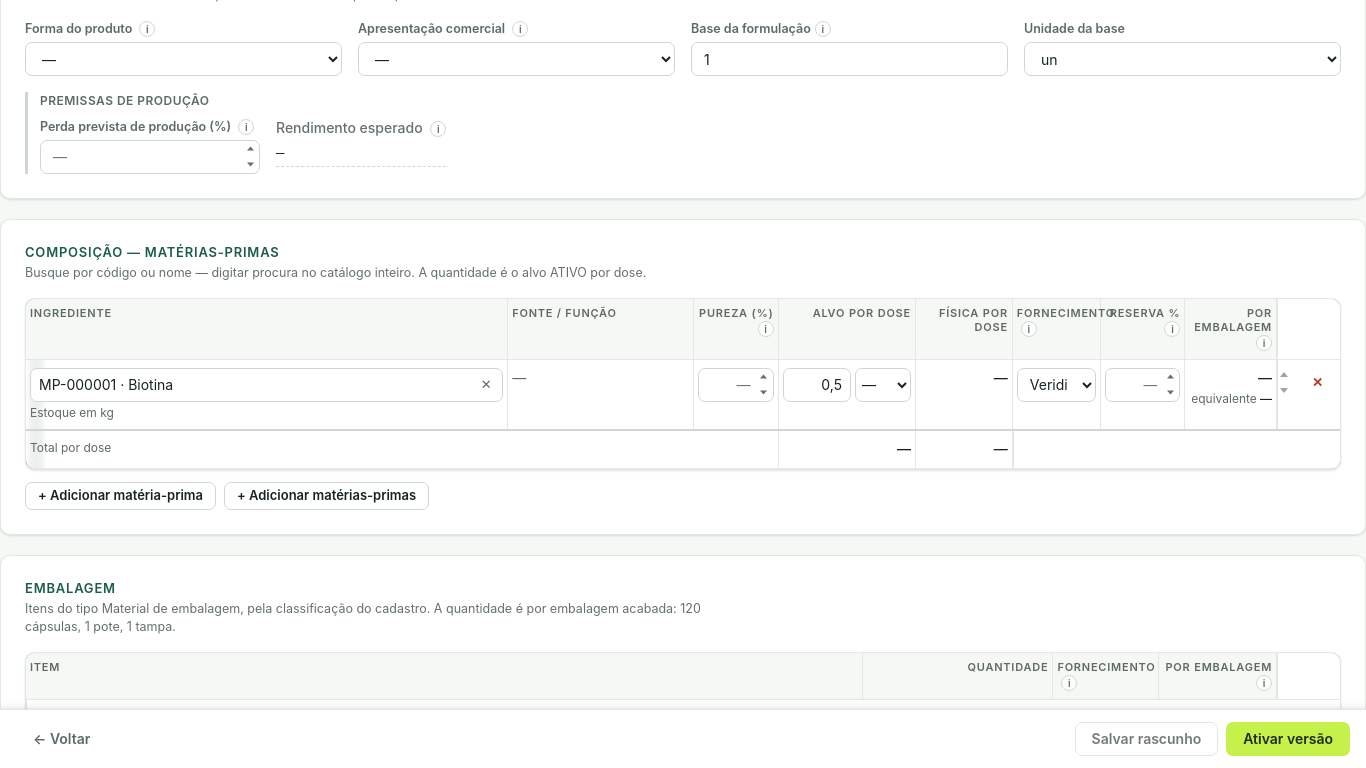
Test case: Modelo de Formulação — guarda de alterações não salvas › editar a pureza na coluna é pendência, e desfazer limpa
(page scrolled)
Type "70" into the field named "Pureza de MP-000001". click: (736, 385)
box: [698,368,774,402]
(page scrolled)
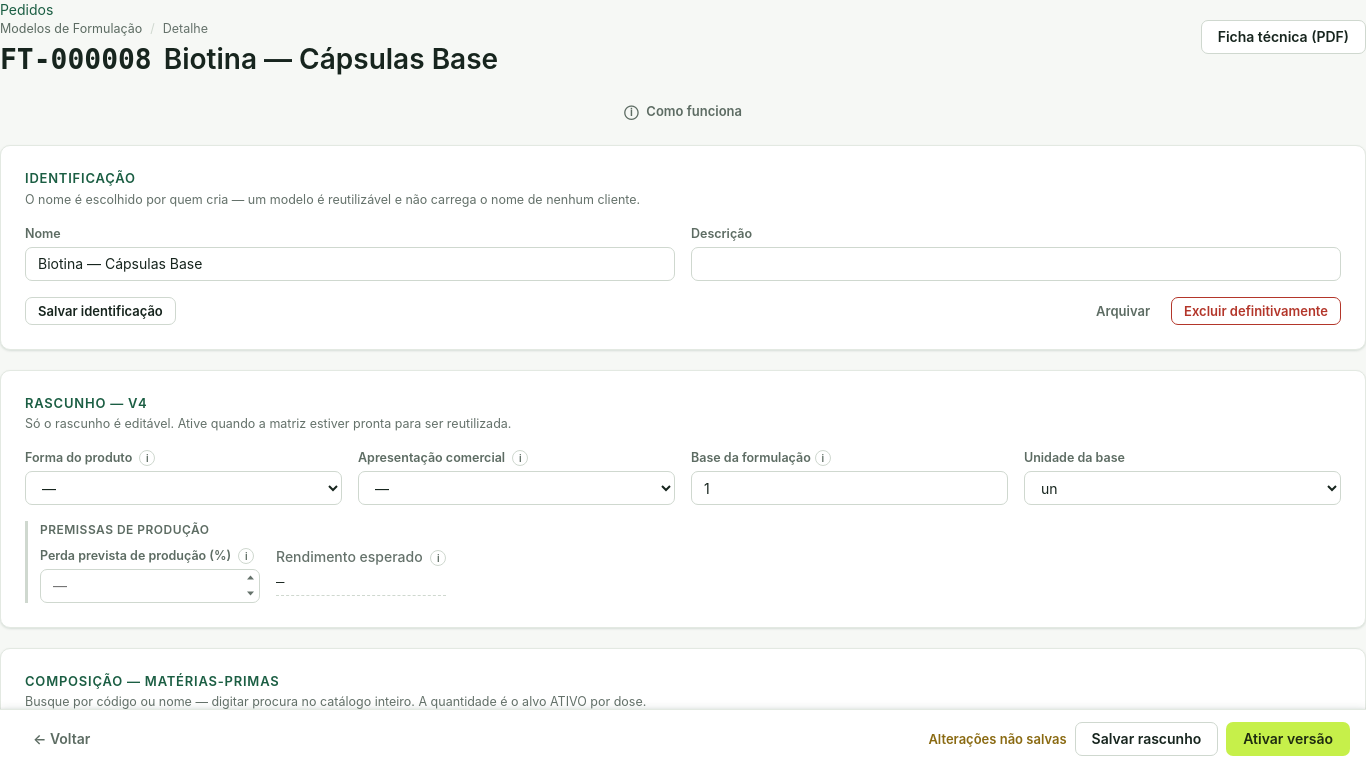
Click the link "Pedidos". click: click(27, 10)
box: [0,1,53,18]
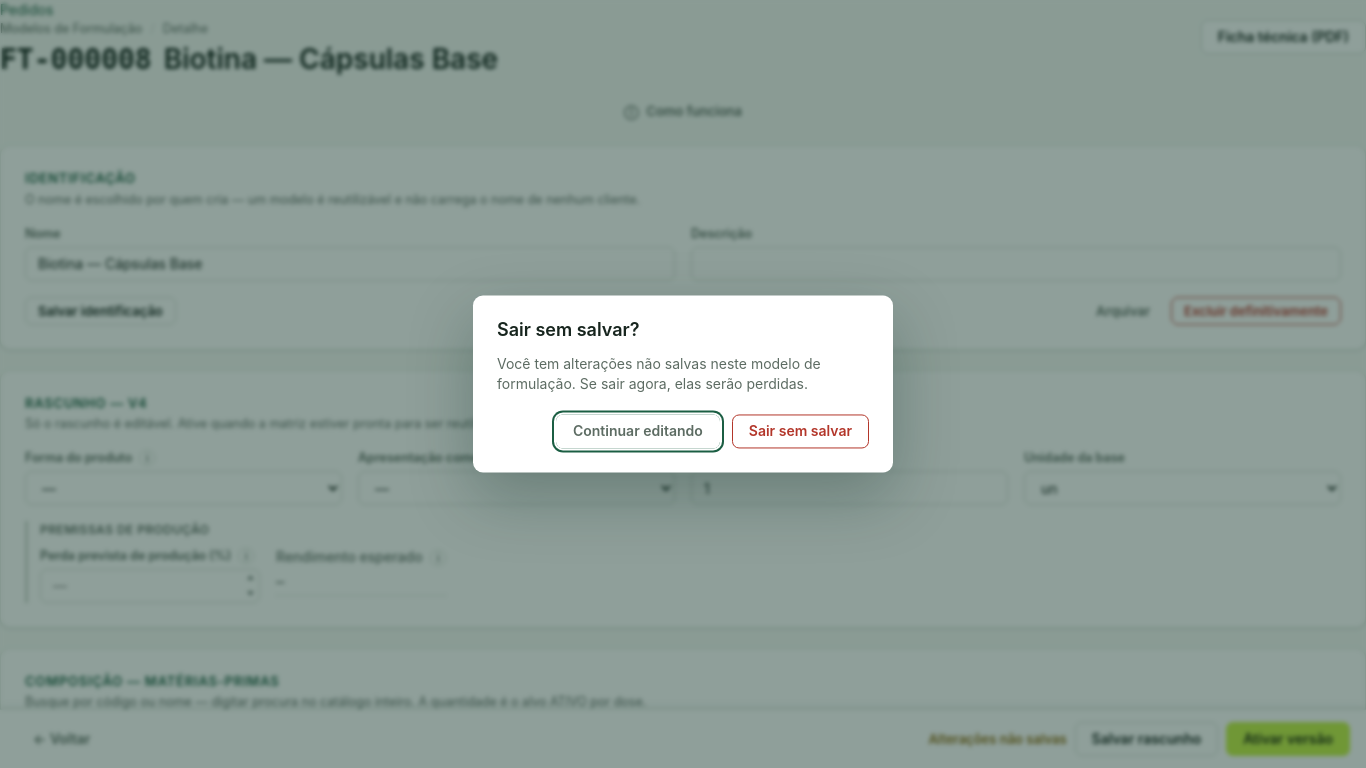
Expected: the heading "Sair sem salvar?" is shown, [497,320,640,340]
A versão gravada não tem pureza: apagar o campo devolve a tela ao limpo.
Click the button "Continuar editando". click: click(638, 432)
box: [556,414,720,448]
(page scrolled)
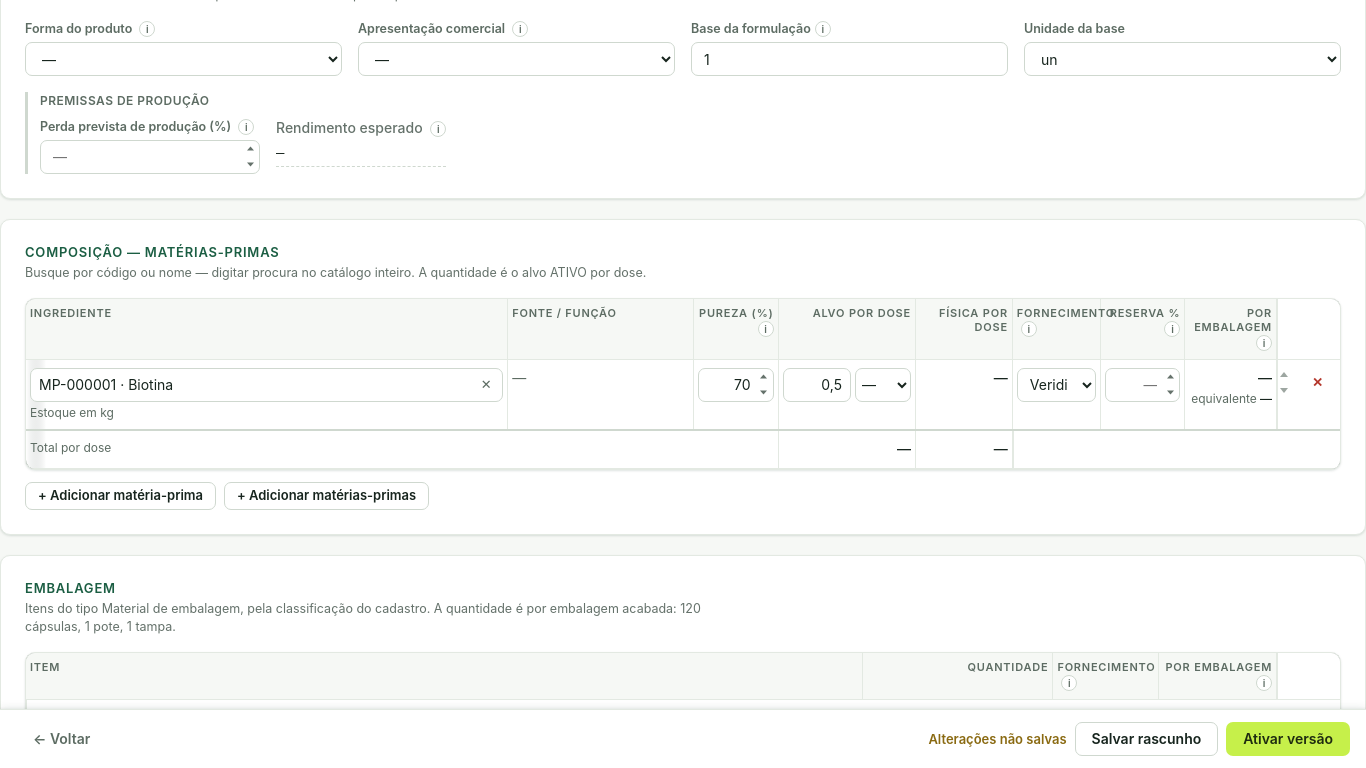
Clear the field named "Pureza de MP-000001". click: (736, 385)
box: [698,368,774,402]
(page scrolled)
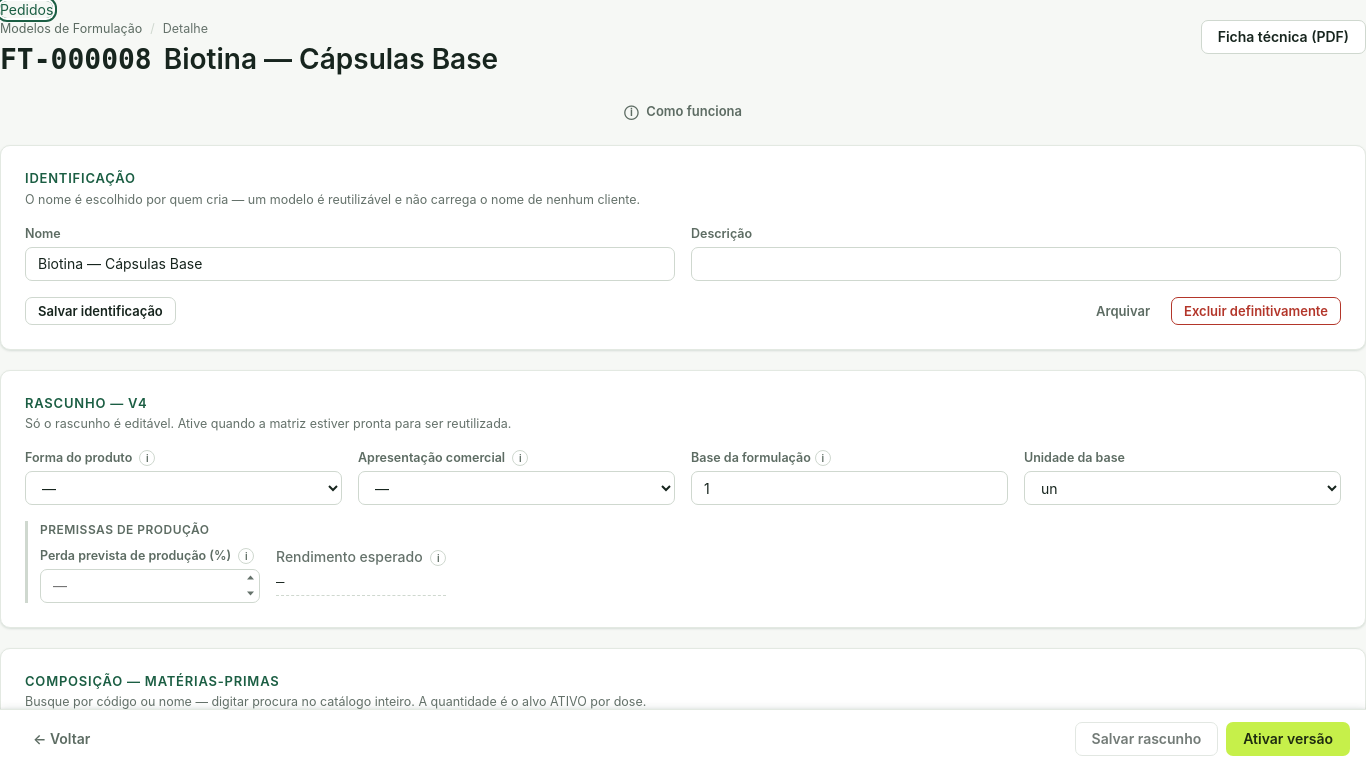
Click the link "Pedidos". click: click(27, 10)
box: [0,1,53,18]
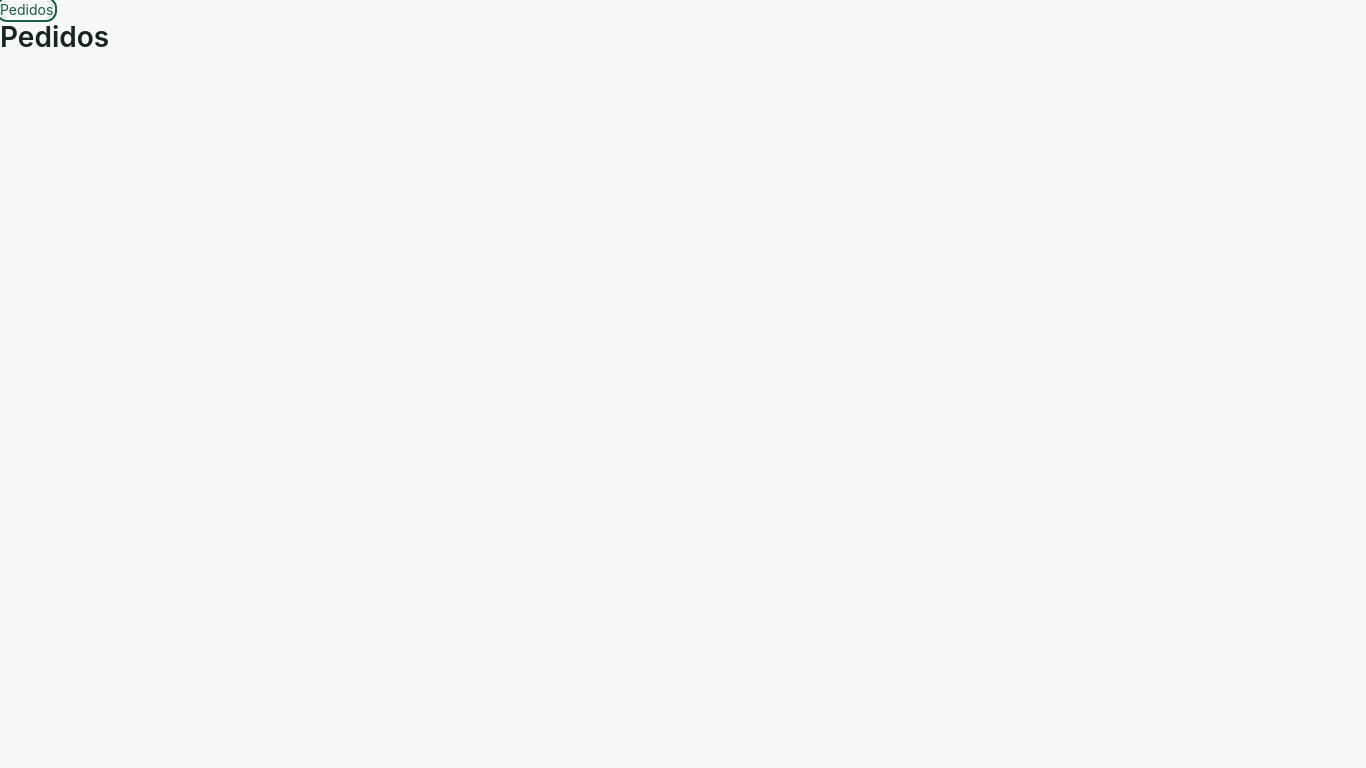
Expected: the heading "Sair sem salvar?" is not shown
Expected: the heading "Pedidos" is shown, [0,20,109,54]
